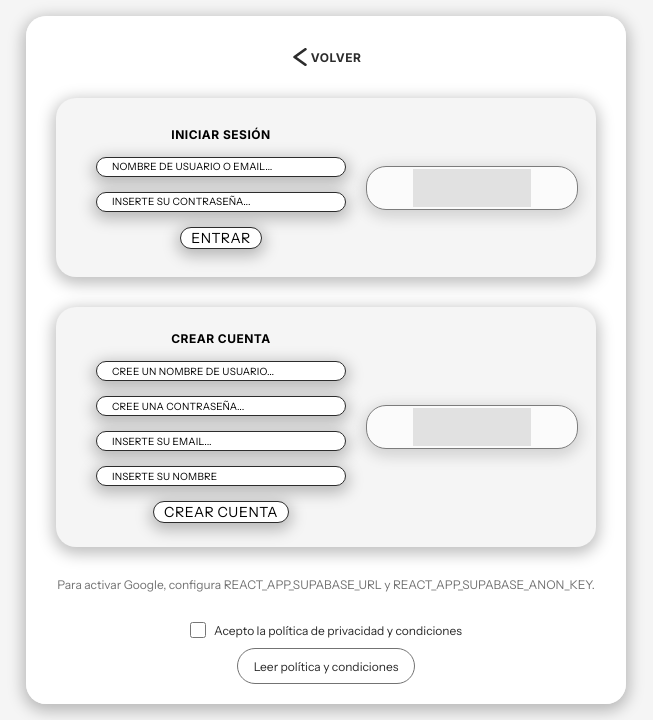
Test case: muestra el error que devuelve el backend al fallar el registro
This screenshot has width=653, height=720.
Click the checkbox labelled "Acepto la política de privacidad y condiciones" at (198, 630), box [190, 622, 206, 638]
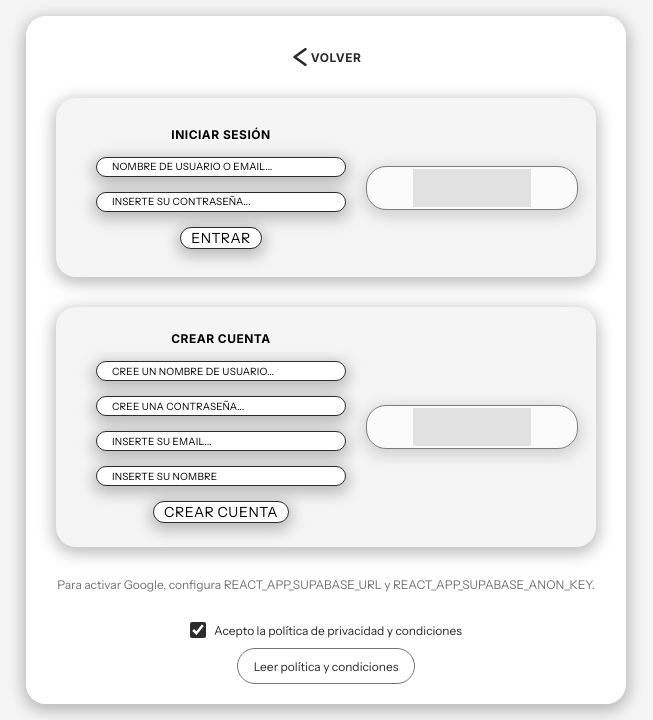
Type "ana" into the field with placeholder "CREE UN NOMBRE DE USUARIO..." at (221, 371), box [96, 361, 346, 381]
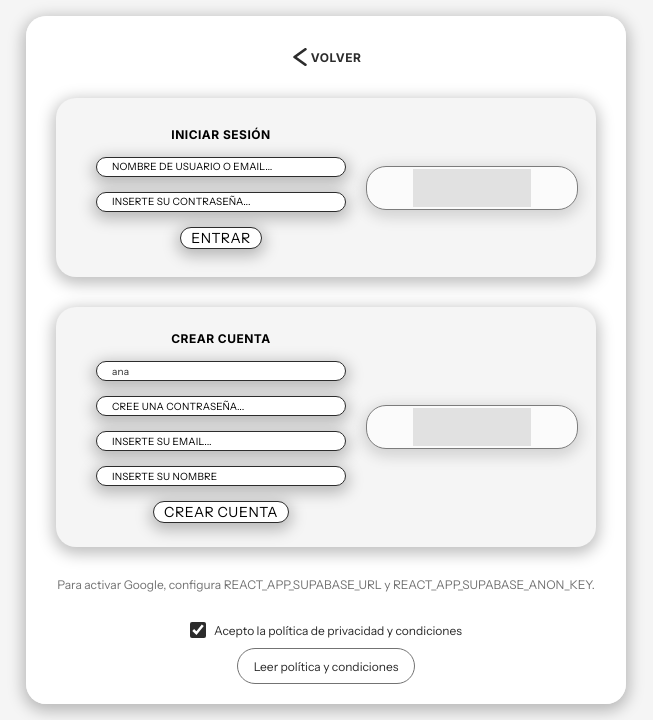
Type "password123" into the password field with placeholder "CREE UNA CONTRASEÑA..." at (221, 406), box [96, 396, 346, 416]
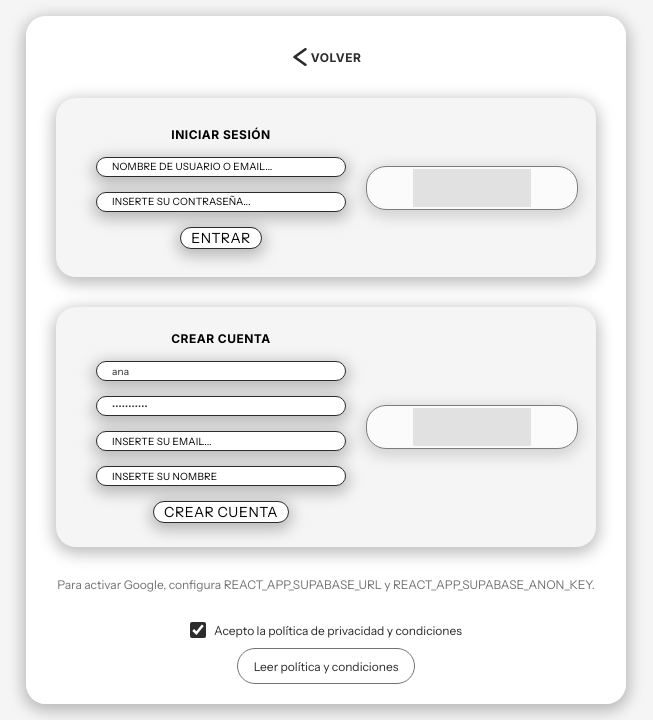
Type "ana@example.com" into the field with placeholder "INSERTE SU EMAIL..." at (221, 441), box [96, 431, 346, 451]
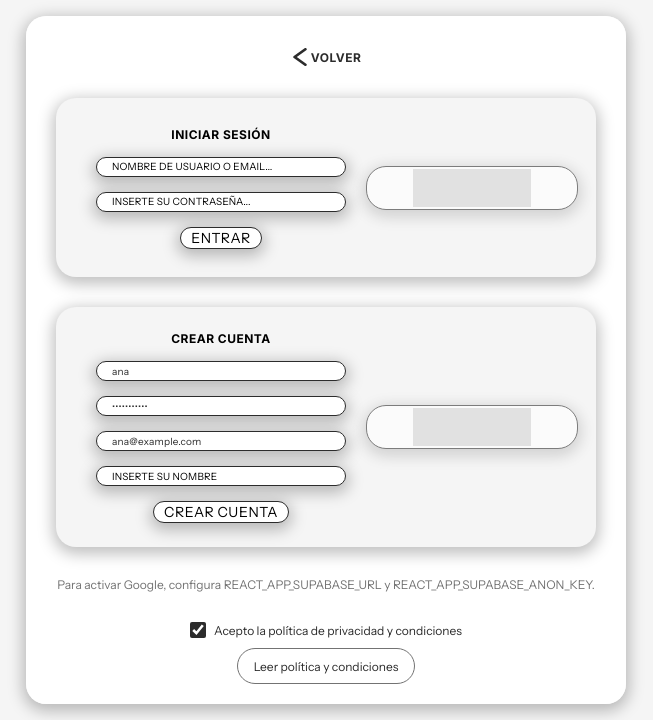
Type "Ana" into the field with placeholder "INSERTE SU NOMBRE" at (221, 476), box [96, 466, 346, 486]
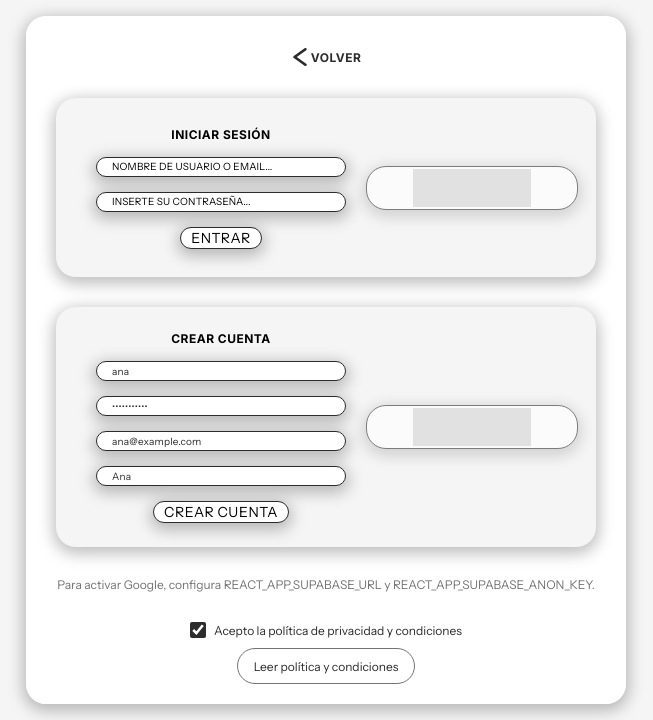
Click the button "CREAR CUENTA" at (221, 512), box [153, 501, 289, 523]
(page scrolled)
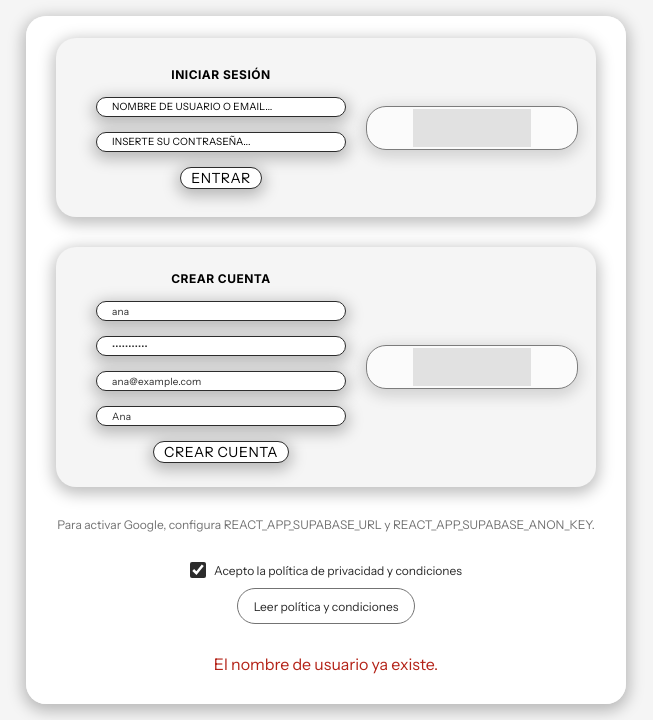
expect the message reads "El nombre de usuario ya existe.": met, box [214, 654, 438, 674]
